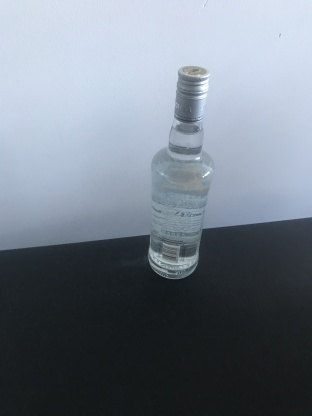nakretka: (172, 63, 210, 124)
